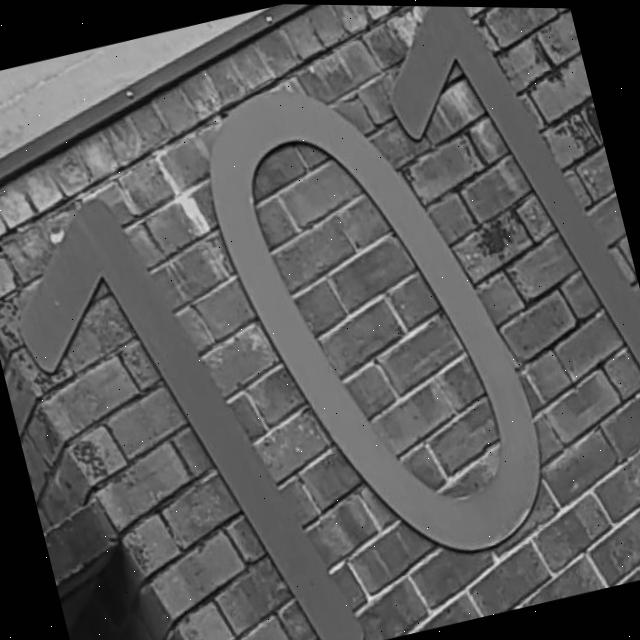character: (184, 39, 567, 602), (0, 150, 376, 640), (361, 5, 640, 456)
